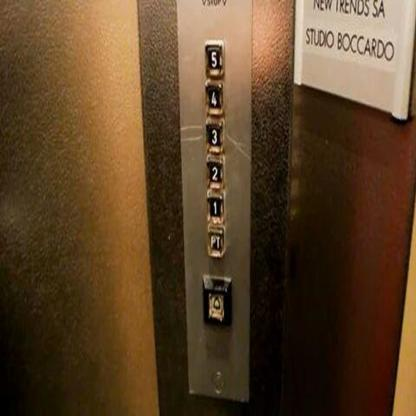1: (204, 189, 225, 224)
2: (204, 154, 224, 189)
3: (203, 118, 224, 154)
4: (204, 80, 224, 114)
5: (204, 40, 223, 76)
PT: (205, 224, 225, 258)
alarm: (205, 287, 226, 324)
